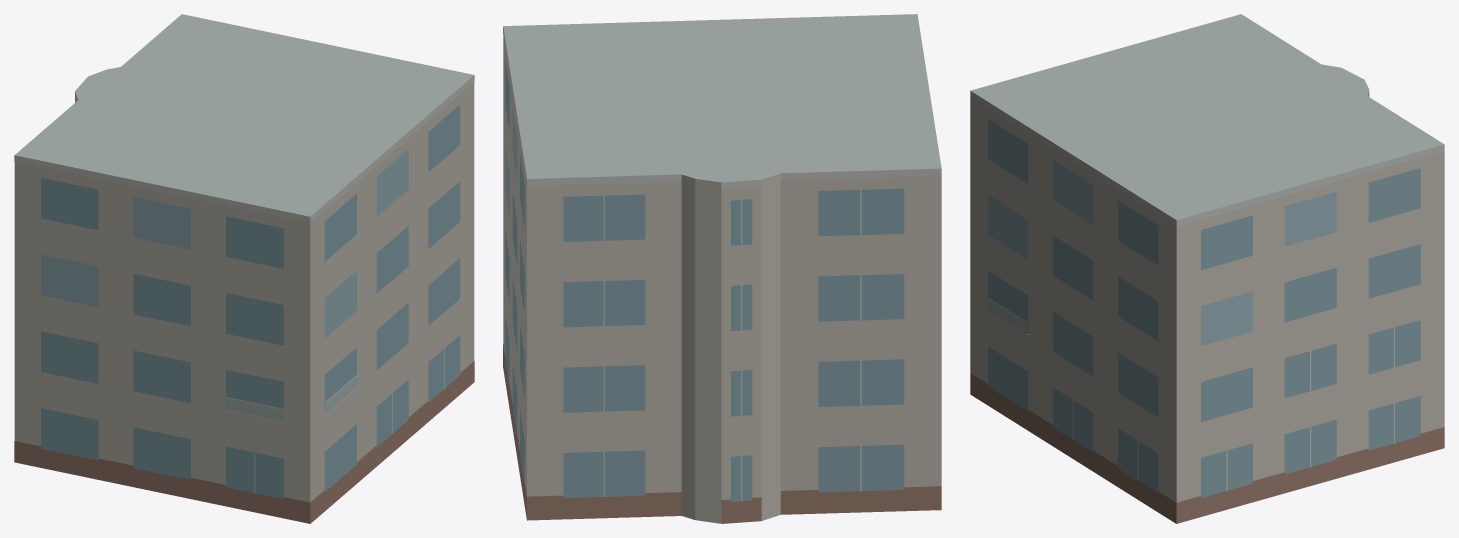
File: survey-upis-33028844.glb
The picture shows the model from 3 angles, left to right: view 1: azimuth 30°, elevation 25°; view 2: azimuth 150°, elevation 25°; view 3: azimuth 270°, elevation 25°; orthographic projection. The views are drawn at different scales.
Parts seen in each view (by area): view 1: survey-upis-33028844.tmp; view 2: survey-upis-33028844.tmp; view 3: survey-upis-33028844.tmp.
Boxes of the visible parts, x1,y1,x2,y2 form: survey-upis-33028844.tmp: [14, 14, 474, 523]; survey-upis-33028844.tmp: [503, 14, 941, 523]; survey-upis-33028844.tmp: [970, 14, 1444, 523].
Size of the model in its own units: 17.04 by 11.7 by 16.57.
